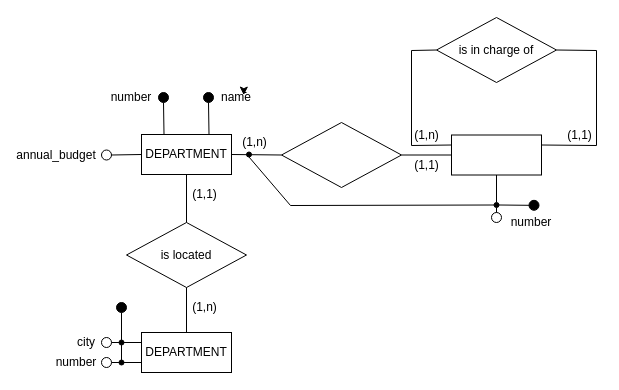
This 619x390 diagram has some shape labels left out. Here are the shapes that lost their labels. From the top down, the box of each, then its label:
(280, 122, 402, 188): works
(450, 134, 542, 175): EMPLEOYEE
